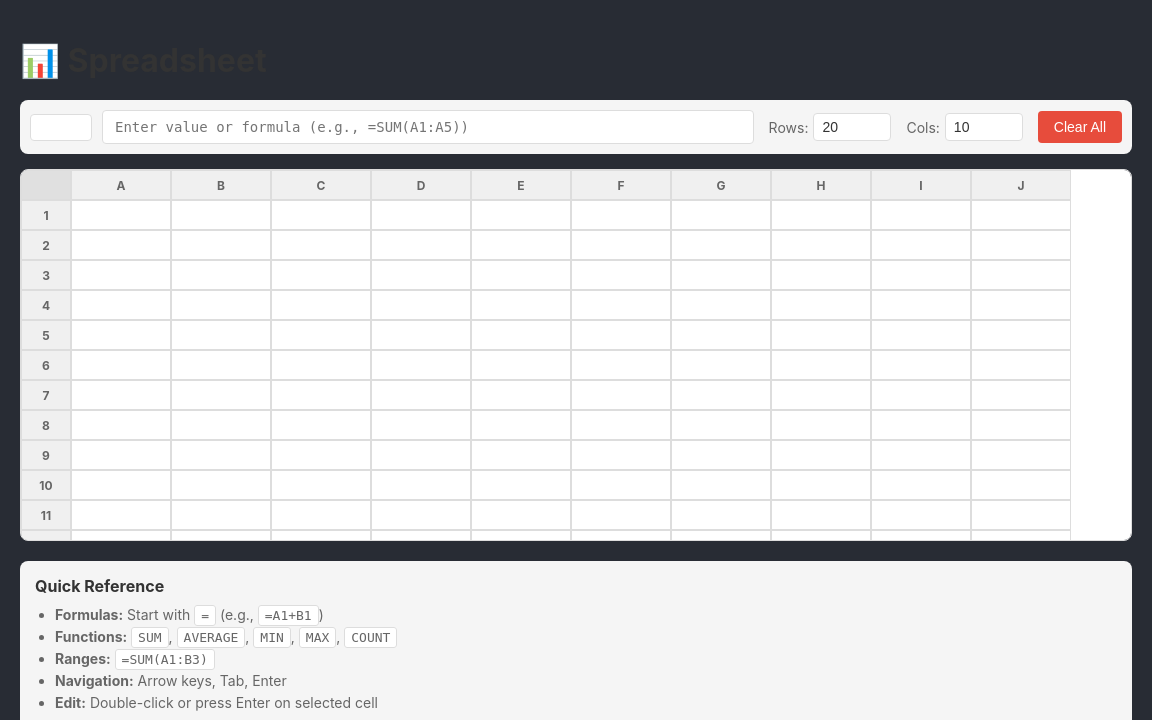
SpreadsheetPage › enters a literal value
This screenshot has width=1152, height=720.
Double-click the element with test id "cell-A1".
double_click(121, 215)  # box [71,200,171,230]
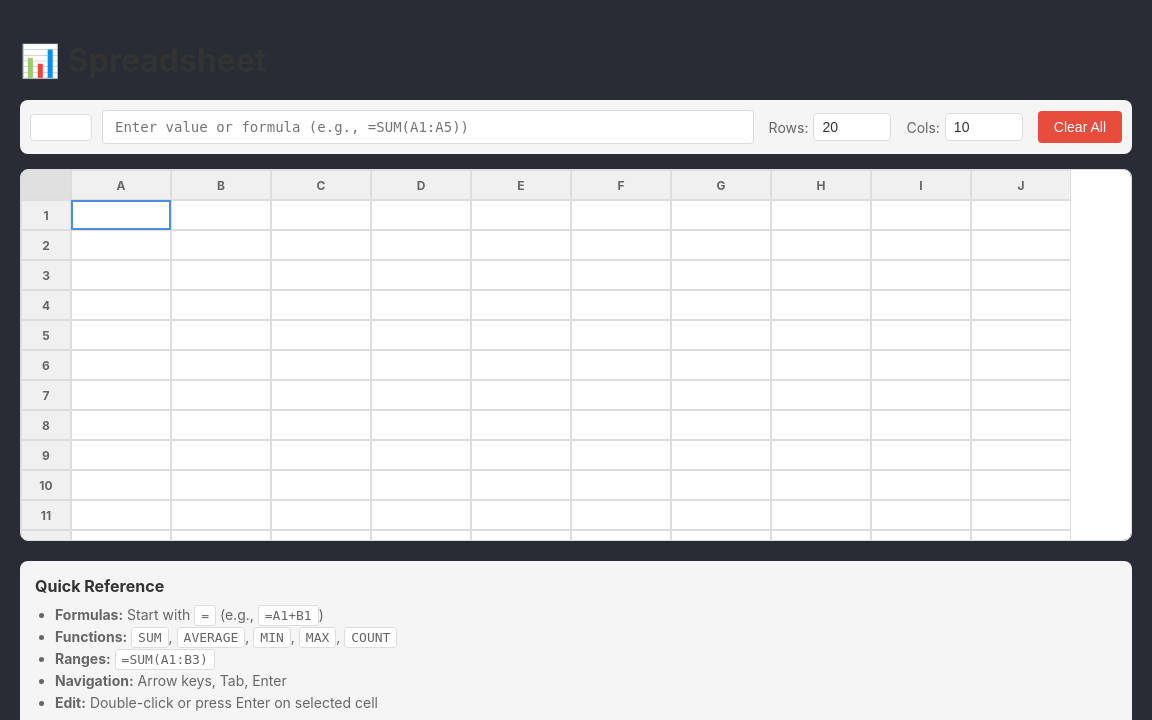
Type "42" into the field with test id "input-A1".
click(125, 217); type("42")  # box [72,201,178,233]
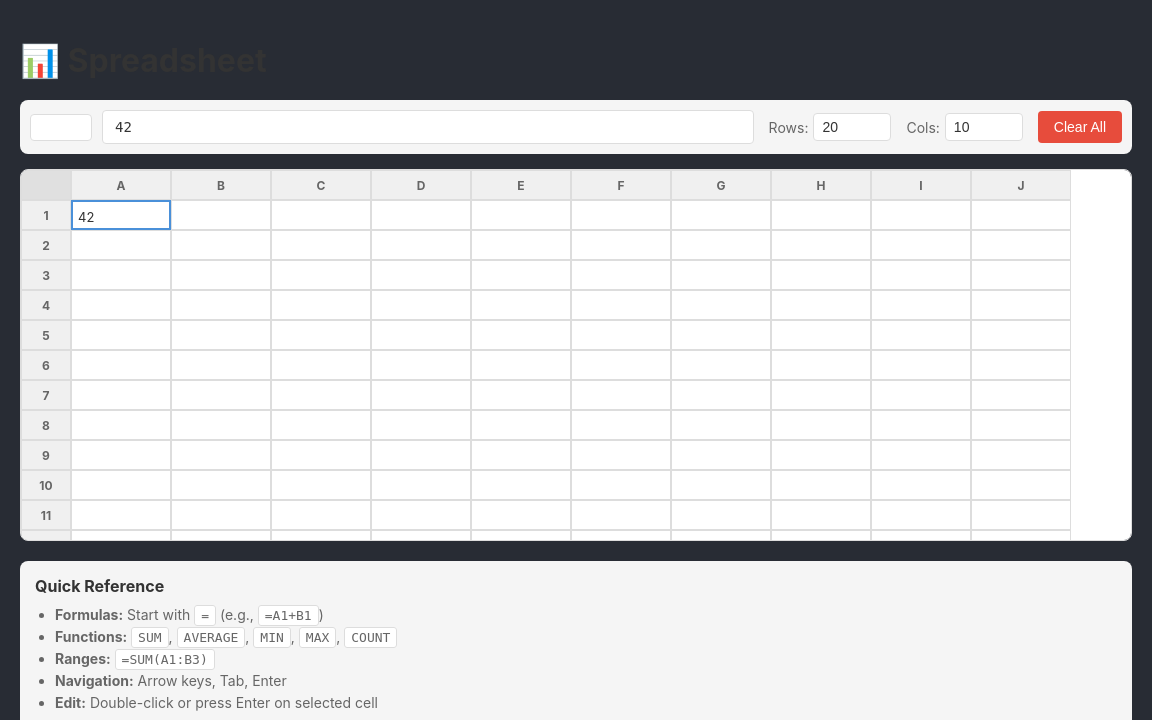
Press Enter in the field with test id "input-A1", box [72,201,178,233]
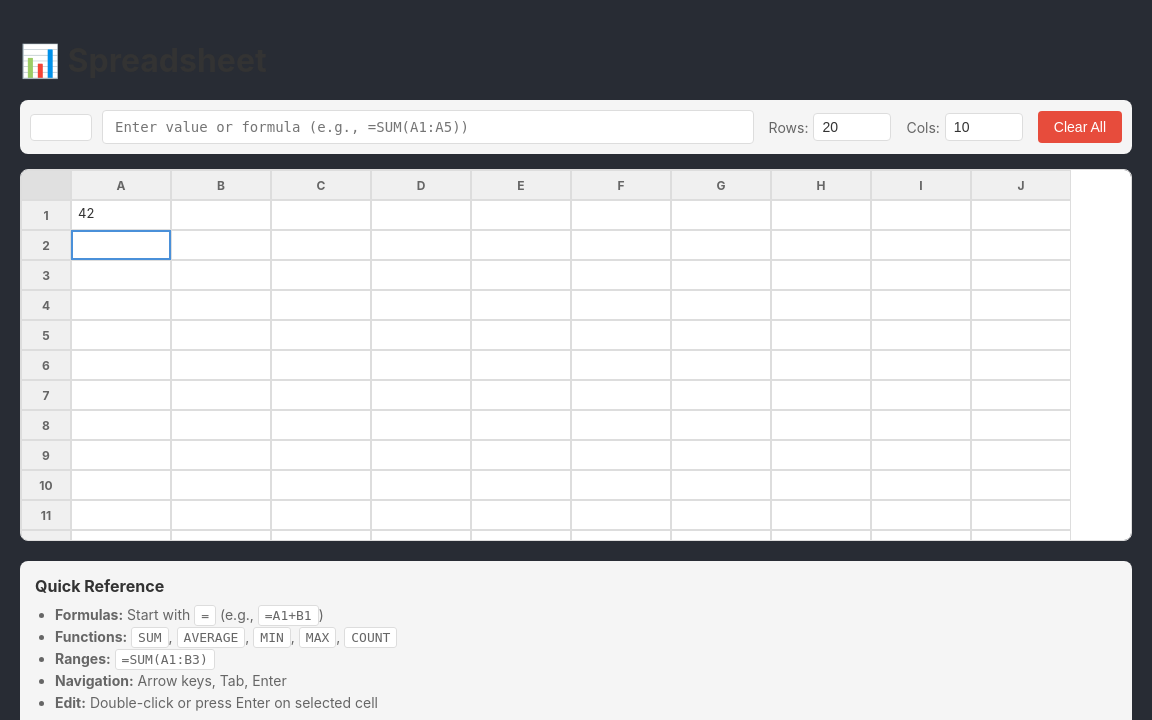
Now the element with test id "cell-A1" reads "42", box [78,205,94,221]
